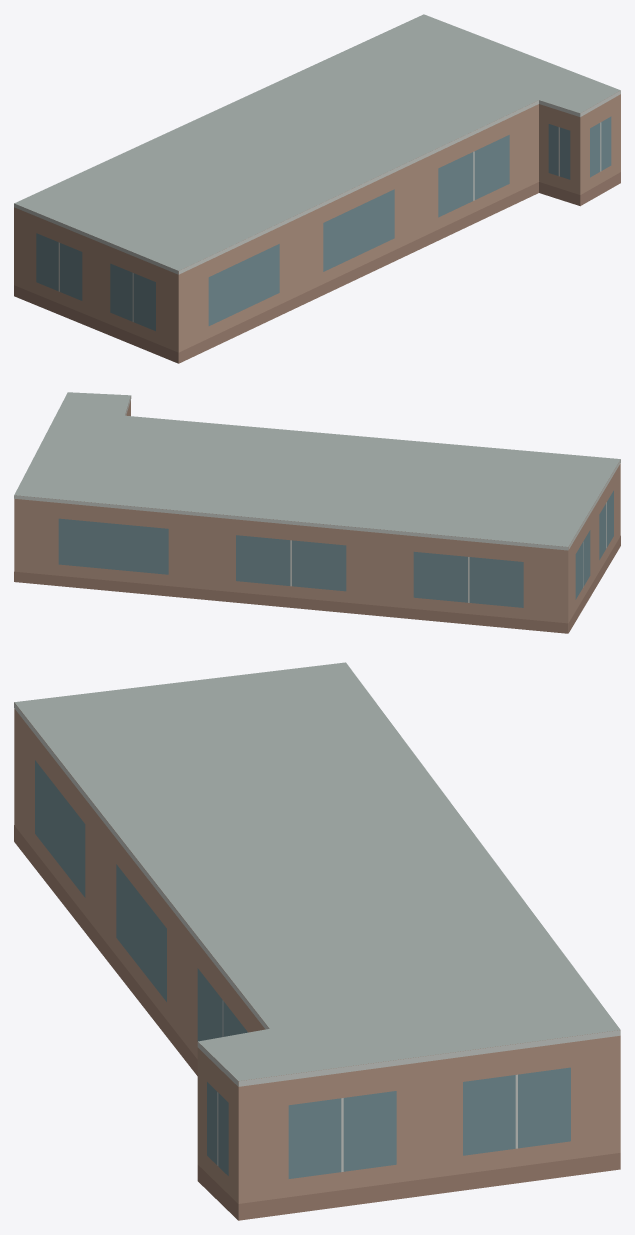
The model's file is survey-upis-32764779.glb.
3 renders of one model, top to bottom at view 1: azimuth 30°, elevation 25°; view 2: azimuth 150°, elevation 25°; view 3: azimuth 270°, elevation 25°, orthographic. The views are drawn at different scales.
Parts seen in each view (by area): view 1: survey-upis-32764779.tmp; view 2: survey-upis-32764779.tmp; view 3: survey-upis-32764779.tmp.
Boxes of the visible parts, box(x1,y1,x2,y2) form: survey-upis-32764779.tmp: box(14, 14, 620, 363); survey-upis-32764779.tmp: box(14, 392, 620, 633); survey-upis-32764779.tmp: box(14, 662, 620, 1220).
Size of the model in its own units: 19.66 by 3.05 by 12.04.
